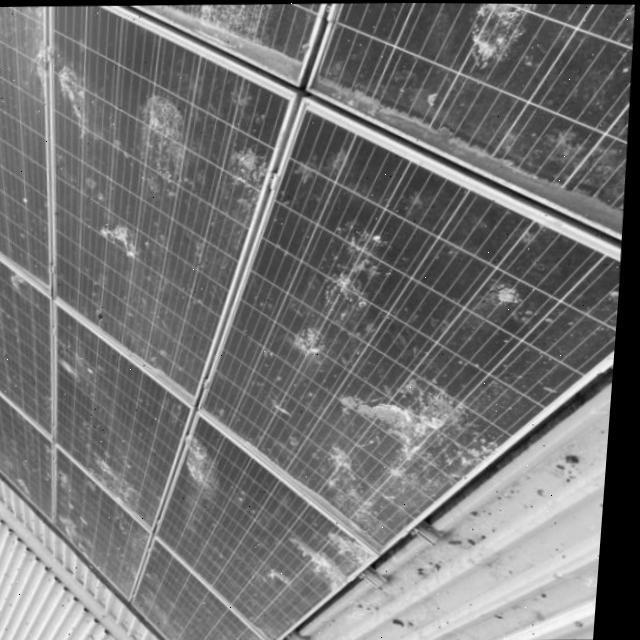Anomaly Solar Panel: (202, 101, 624, 555), (0, 4, 305, 394), (310, 2, 634, 240), (126, 404, 375, 640), (0, 291, 235, 526), (24, 442, 180, 597), (0, 189, 85, 453), (0, 5, 56, 292), (120, 538, 270, 640), (0, 387, 97, 520)
Surface Contaminant: (289, 325, 516, 551), (309, 72, 626, 231), (99, 4, 304, 79), (82, 427, 176, 518), (322, 212, 401, 315), (442, 3, 548, 68), (138, 85, 193, 209), (224, 138, 281, 254), (285, 516, 360, 590), (294, 142, 359, 189), (54, 56, 95, 128), (92, 214, 142, 270), (181, 2, 265, 35), (330, 515, 378, 566), (185, 427, 223, 490), (487, 270, 533, 307), (269, 555, 311, 595), (288, 321, 332, 358), (26, 34, 50, 90)
